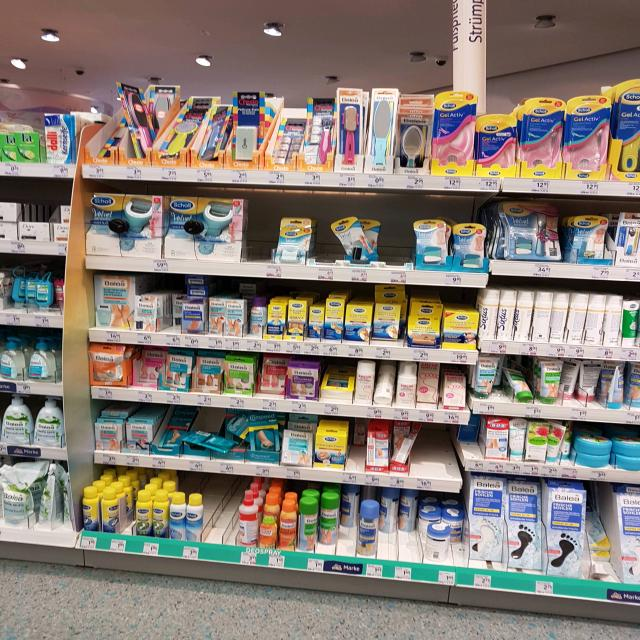unorganised: (503, 356, 627, 415), (536, 292, 622, 349), (113, 79, 159, 155), (328, 209, 383, 266), (229, 411, 279, 464), (424, 516, 465, 564), (382, 485, 417, 541), (184, 423, 233, 458), (255, 355, 285, 400), (133, 347, 164, 388), (374, 302, 402, 347), (319, 491, 337, 556), (338, 483, 359, 534), (375, 361, 394, 408), (550, 420, 567, 466), (168, 291, 182, 333)
